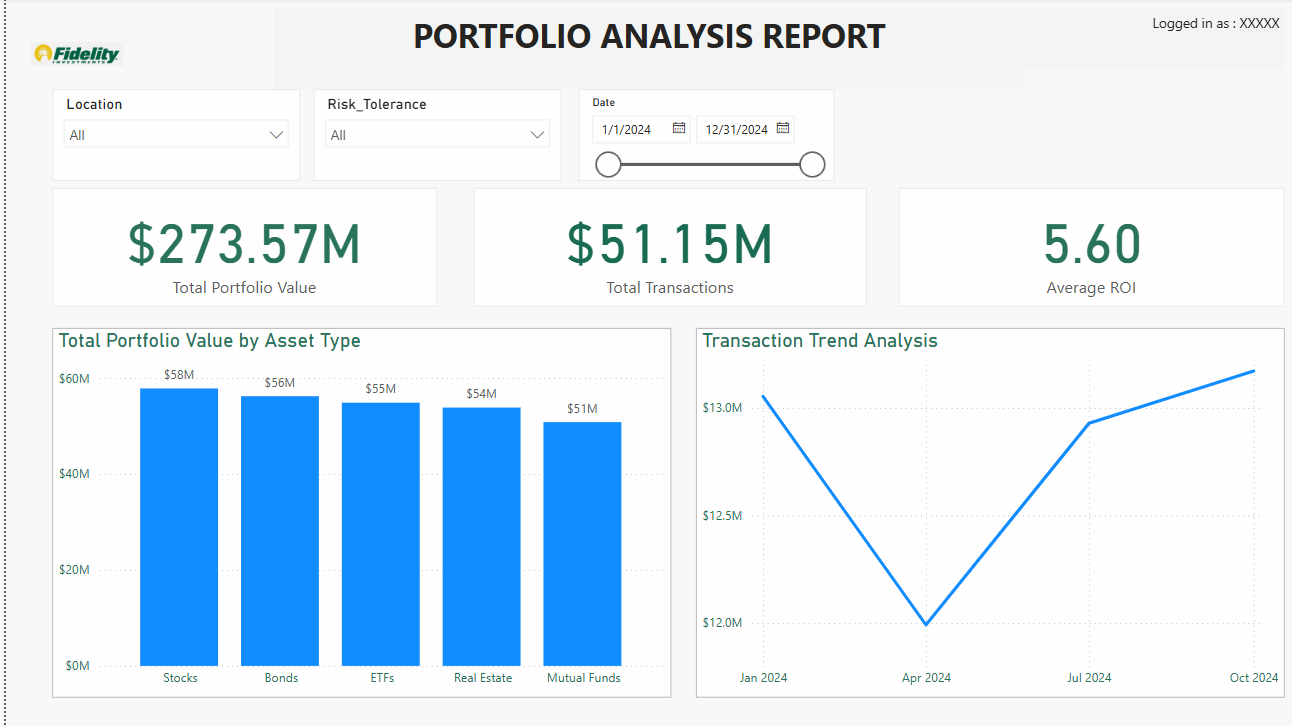

What the dashboard file says about the page in this screenshot:
{"tool":"powerbi","page":{"name":"Portfolio Analysis Report","canvas":[1280,720],"ordinal":0},"visuals":[{"type":"image","box":[20,20,100,70],"z":0},{"type":"card","fields":{"Values":["Customer_Data.Total Portfolio Value"]},"box":[45.2,185.9,376.6,116.2],"z":1000},{"type":"card","fields":{"Values":["Customer_Data.Total Transactions"]},"box":[457.3,185.9,385.2,116.2],"z":2000},{"type":"card","fields":{"Values":["Customer_Data.Average ROI"]},"box":[873.1,185.9,377.9,116.2],"z":3000},{"type":"columnChart","title":"Total Portfolio Value by Asset Type","fields":{"Category":["Portfolio_Data.Asset_Type"],"Y":["Customer_Data.Total Portfolio Value"]},"box":[45.2,322.8,605.3,362],"z":4000},{"type":"lineChart","title":"Transaction Trend Analysis","fields":{"Y":["Customer_Data.Total Transactions"],"Category":["Transactions.Date.Variation.Date Hierarchy.Year","Transactions.Date.Variation.Date Hierarchy.Quarter","Transactions.Date.Variation.Date Hierarchy.Month","Transactions.Date.Variation.Date Hierarchy.Day"]},"box":[675,322.8,576,362],"z":5000},{"type":"slicer","fields":{"Values":["Transactions.Date"]},"box":[560.1,89.3,250.7,89.3],"z":6000},{"type":"slicer","fields":{"Values":["Customer_Data.Location"]},"box":[45.2,89.3,242.1,89.3],"z":7000},{"type":"slicer","fields":{"Values":["Customer_Data.Risk_Tolerance"]},"box":[300.8,89.3,242.1,89.3],"z":8000},{"type":"textbox","box":[262.9,10,732.5,79.5],"z":8001},{"type":"textbox","box":[995.4,9.8,255.6,59.9],"z":8002}]}

Visuals, with their boxes in screenshot pixels (x1, y1, x2, y2), scaled from the page's 1280x720 canvas onto the 1292x726 screenshot:
image: pyautogui.locateOnScreen(20, 20, 121, 91)
card - Customer_Data.Total Portfolio Value: pyautogui.locateOnScreen(46, 187, 426, 305)
card - Customer_Data.Total Transactions: pyautogui.locateOnScreen(462, 187, 850, 305)
card - Customer_Data.Average ROI: pyautogui.locateOnScreen(881, 187, 1263, 305)
"Total Portfolio Value by Asset Type" columnChart: pyautogui.locateOnScreen(46, 325, 657, 691)
"Transaction Trend Analysis" lineChart: pyautogui.locateOnScreen(681, 325, 1263, 691)
slicer - Transactions.Date: pyautogui.locateOnScreen(565, 90, 818, 180)
slicer - Customer_Data.Location: pyautogui.locateOnScreen(46, 90, 290, 180)
slicer - Customer_Data.Risk_Tolerance: pyautogui.locateOnScreen(304, 90, 548, 180)
textbox: pyautogui.locateOnScreen(265, 10, 1005, 90)
textbox: pyautogui.locateOnScreen(1005, 10, 1263, 70)
